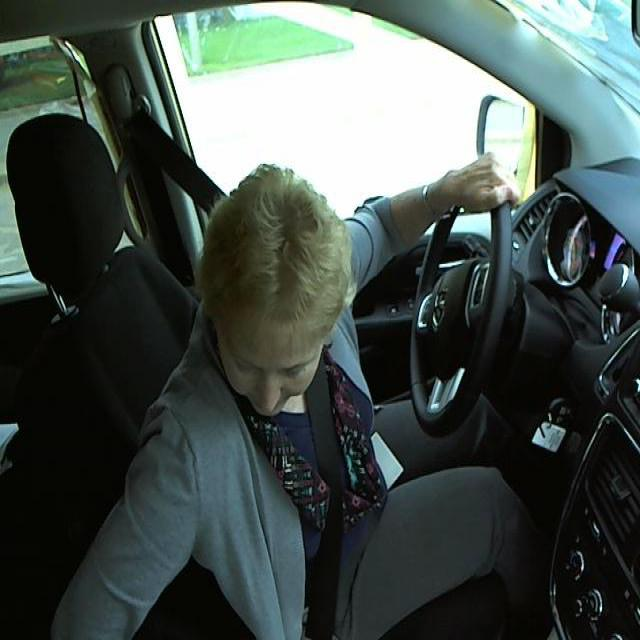seatbelt: (309, 398, 351, 634)
